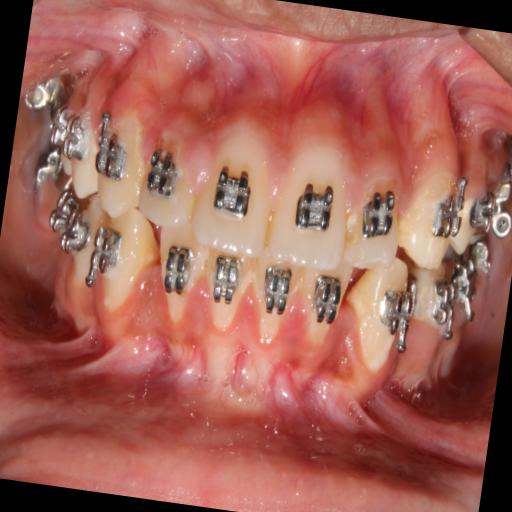correct_brace: (208, 158, 258, 225), (288, 175, 340, 236), (426, 182, 470, 244), (140, 143, 184, 202), (94, 127, 132, 186), (356, 188, 398, 240)
incorrect_brace: (133, 121, 206, 232), (344, 148, 411, 268)
